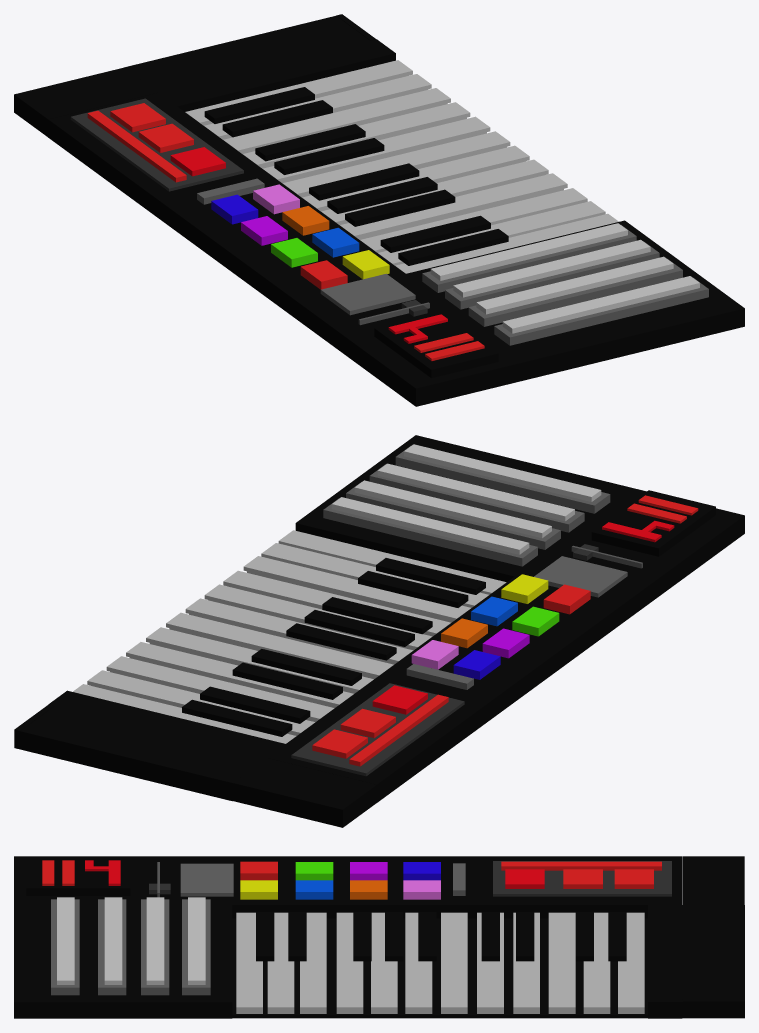
File: Piano.glb
3 renders of one model, top to bottom at view 1: azimuth 30°, elevation 25°; view 2: azimuth 150°, elevation 25°; view 3: azimuth 270°, elevation 25°, orthographic. The views are drawn at different scales.
Parts seen in each view (by area): view 1: Cube, Cube.051, Cube.030, Cube.026, Cube.010, Cube.031, Cube.023, Cube.027, Cube.018, Cube.020, Cube.053, Cube.019 (+36 smaller); view 2: Cube, Cube.051, Cube.031, Cube.036, Cube.010, Cube.023, Cube.030, Cube.029, Cube.053, Cube.018, Cube.020, Cube.019 (+36 smaller); view 3: Cube, Cube.025, Cube.051, Cube.023, Cube.010, Cube.030, Cube.031, Cube.036, Cube.037, Cube.026, Cube.034, Cube.028 (+40 smaller).
Boxes of the visible parts, x1=… form: Cube: x1=48, y1=16, x2=744, y2=406; Cube.051: x1=14, y1=67, x2=157, y2=137; Cube.030: x1=223, y1=88, x2=450, y2=153; Cube.026: x1=340, y1=173, x2=567, y2=239; Cube.010: x1=70, y1=98, x2=243, y2=191; Cube.031: x1=282, y1=131, x2=510, y2=197; Cube.023: x1=374, y1=311, x2=498, y2=378; Cube.027: x1=263, y1=116, x2=490, y2=183; Cube.018: x1=453, y1=239, x2=650, y2=297; Cube.020: x1=476, y1=256, x2=673, y2=314; Cube.053: x1=430, y1=223, x2=627, y2=280; Cube.019: x1=502, y1=276, x2=699, y2=333; Cube: x1=20, y1=435, x2=744, y2=802; Cube.051: x1=232, y1=758, x2=376, y2=827; Cube.031: x1=166, y1=612, x2=393, y2=678; Cube.036: x1=243, y1=556, x2=470, y2=622; Cube.010: x1=291, y1=683, x2=464, y2=776; Cube.023: x1=591, y1=490, x2=715, y2=556; Cube.030: x1=106, y1=656, x2=334, y2=721; Cube.029: x1=126, y1=642, x2=353, y2=707; Cube.053: x1=331, y1=497, x2=529, y2=554; Cube.018: x1=354, y1=480, x2=551, y2=538; Cube.020: x1=377, y1=463, x2=574, y2=521; Cube.019: x1=404, y1=444, x2=601, y2=501; Cube: x1=14, y1=856, x2=744, y2=1018; Cube.025: x1=232, y1=918, x2=647, y2=1018; Cube.051: x1=682, y1=856, x2=744, y2=904; Cube.023: x1=26, y1=858, x2=130, y2=895; Cube.010: x1=493, y1=861, x2=671, y2=896; Cube.030: x1=548, y1=912, x2=575, y2=1013; Cube.031: x1=441, y1=912, x2=467, y2=1013; Cube.036: x1=300, y1=912, x2=326, y2=1013; Cube.037: x1=236, y1=912, x2=262, y2=1013; Cube.026: x1=336, y1=912, x2=363, y2=1013; Cube.034: x1=618, y1=912, x2=644, y2=1013; Cube.028: x1=267, y1=912, x2=294, y2=1013.
Bounding box in the file's own units: 5.26 × 0.4836 × 11.14.
